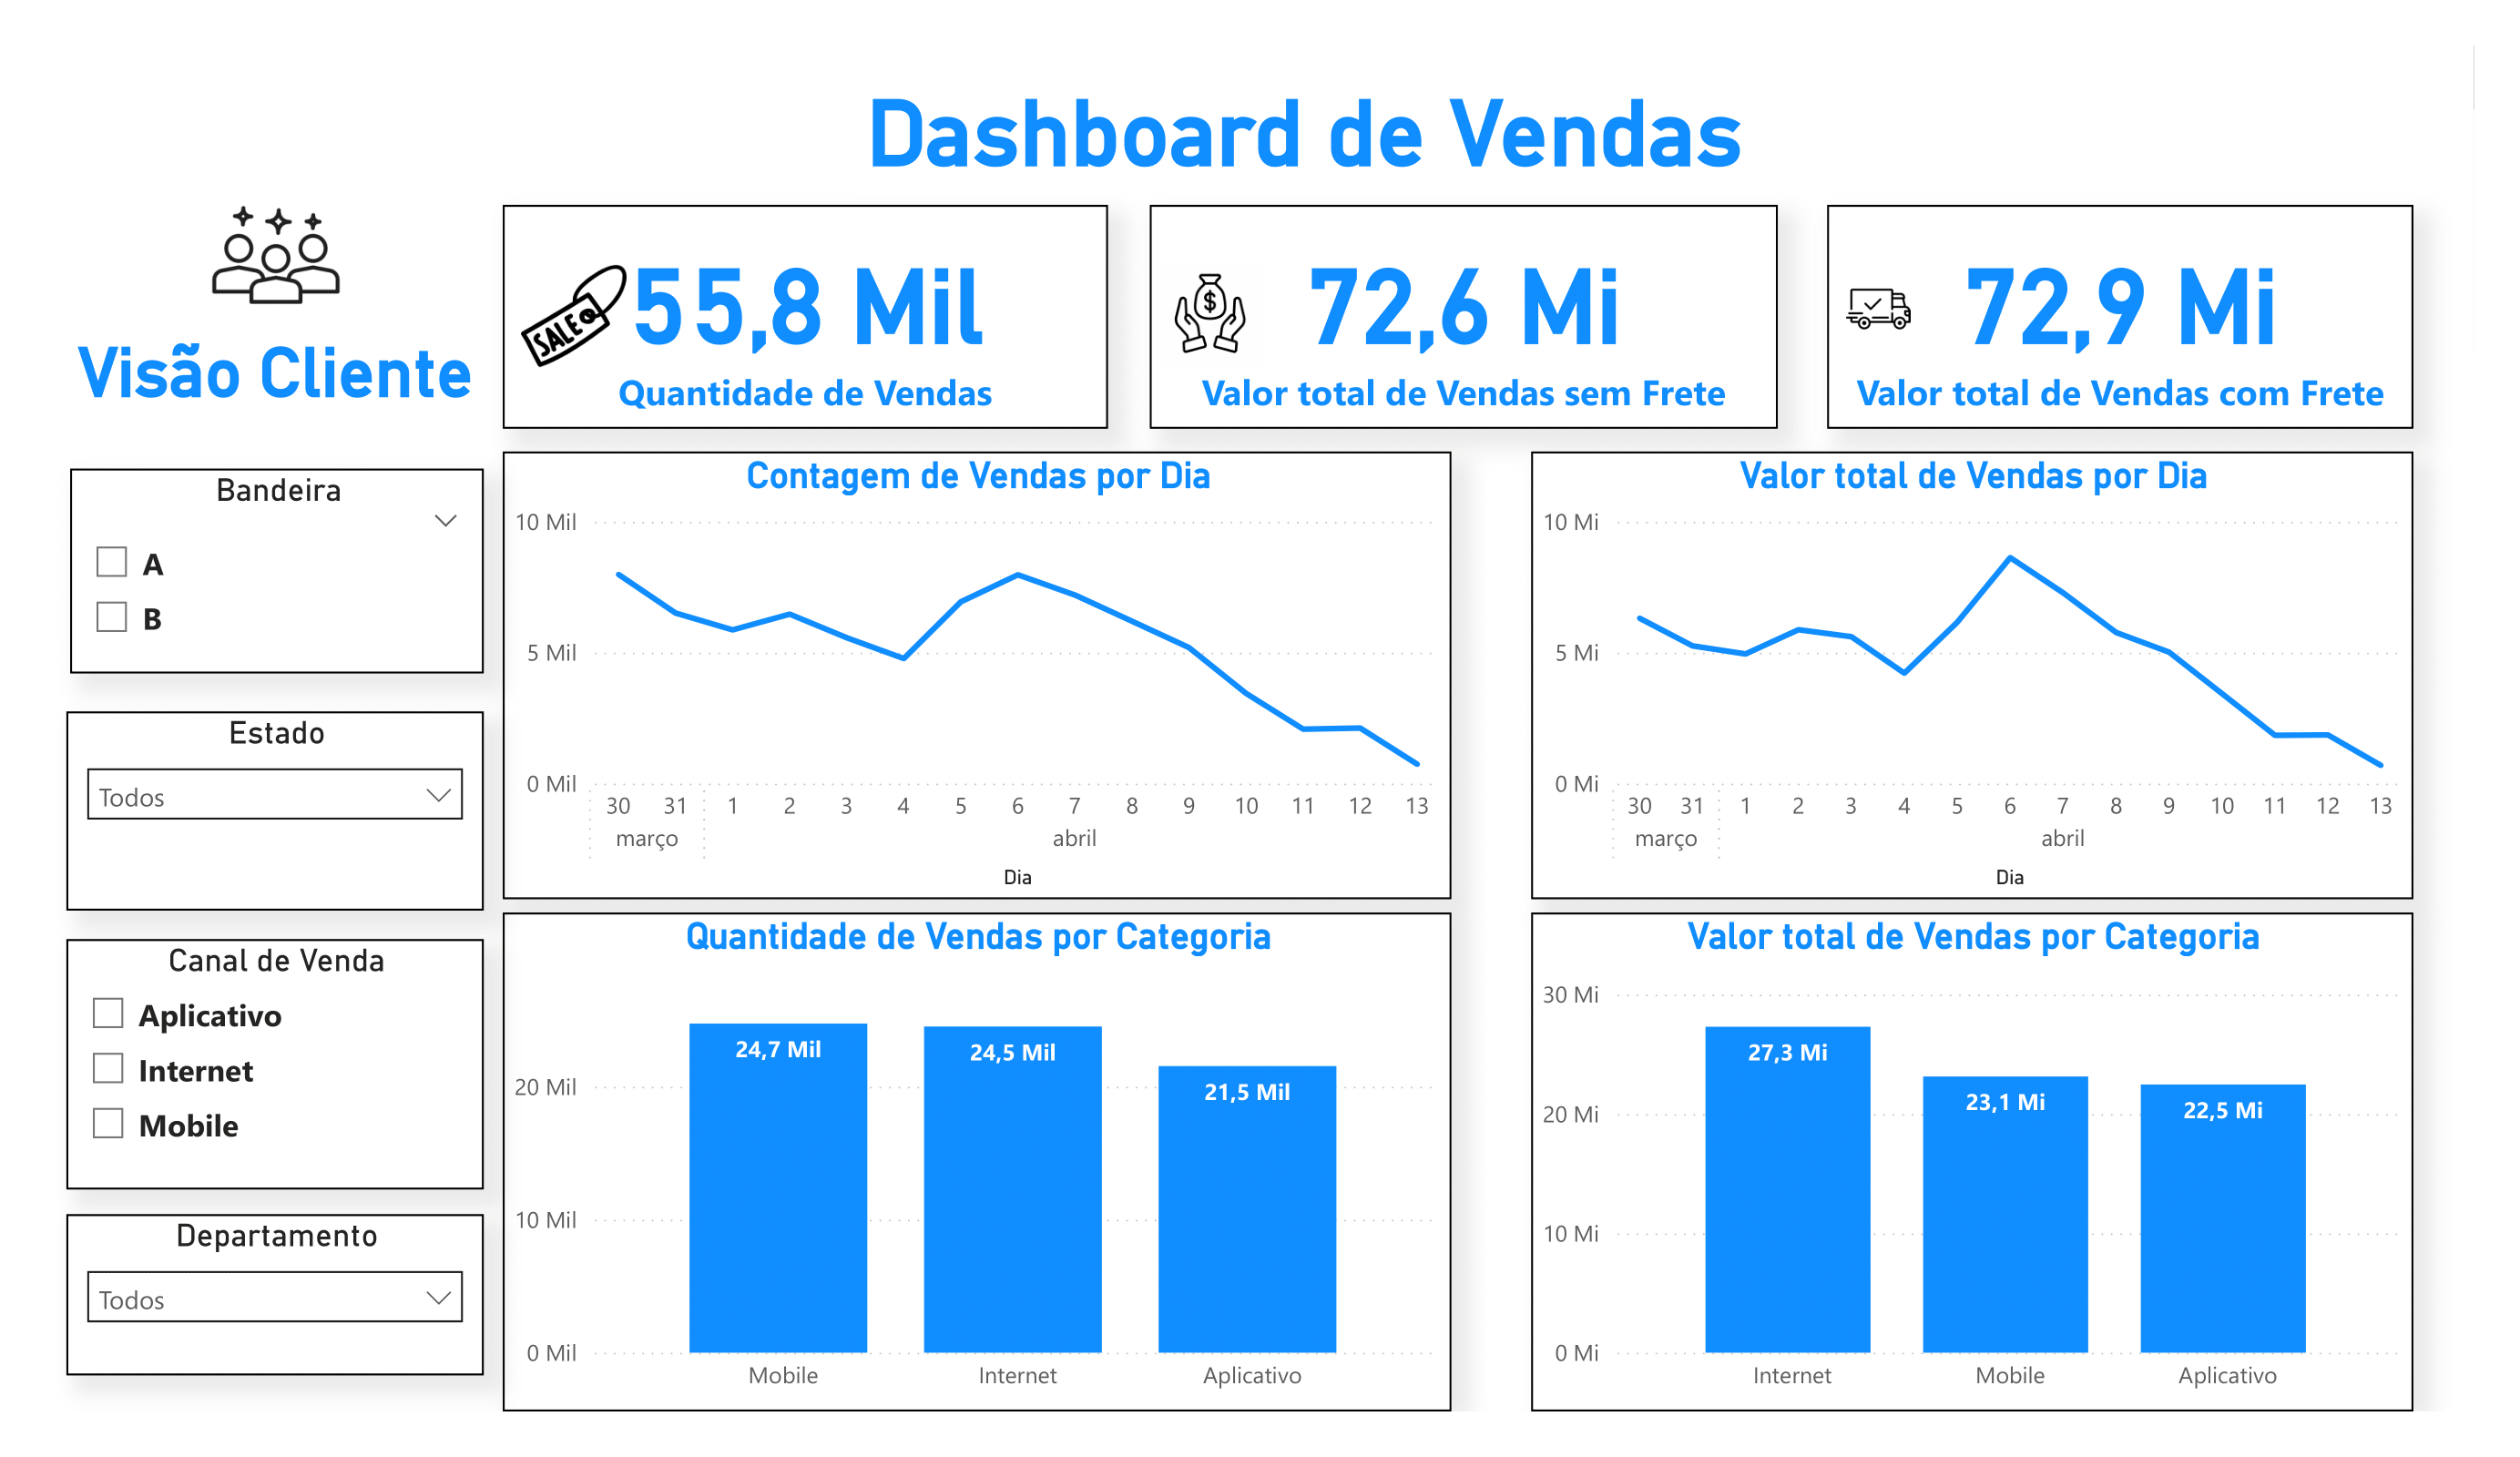

Layout of this report page (visuals, bound fields, positions):
{"tool":"powerbi","page":{"name":"Visão cliente","canvas":[1280,720],"ordinal":0},"visuals":[{"type":"card","fields":{"Values":["Count(base compra.idcompra)"]},"box":[241,84.1,319,117.5],"z":0},{"type":"card","fields":{"Values":["Sum(base compra.Preço)"]},"box":[582.2,83.9,330.5,117.7],"z":1000},{"type":"card","fields":{"Values":["Sum(base compra.Preço_com_frete)"]},"box":[938.7,84.1,308.9,117.5],"z":2000},{"type":"textbox","title":"Dashboard de Vendas","box":[428.4,18.2,484.1,59.7],"z":3000},{"type":"image","box":[938.3,116.6,55.3,44],"z":4000},{"type":"image","box":[241,110.4,73.9,64.8],"z":5000},{"type":"image","box":[582.2,109.5,65.5,65.5],"z":6000},{"type":"textbox","title":"Visão Cliente","box":[12.2,150.9,218.7,48.6],"z":7000},{"type":"image","box":[70.9,58.7,101.3,102.3],"z":8000},{"type":"lineChart","title":"Contagem de Vendas por Dia","fields":{"Y":["Count(base compra.idcompra)"],"Category":["base compra.Data.Variation.Hierarquia de datas.Mês","base compra.Data.Variation.Hierarquia de datas.Dia"]},"box":[241,213.7,500.3,235.9],"z":9000},{"type":"lineChart","title":"Valor total de Vendas por Dia","fields":{"Category":["base compra.Data.Variation.Hierarquia de datas.Mês","base compra.Data.Variation.Hierarquia de datas.Dia"],"Y":["Sum(base compra.Preço_com_frete)"]},"box":[782.8,213.7,464.8,235.9],"z":10000},{"type":"clusteredColumnChart","title":"Quantidade de Vendas por Categoria","fields":{"Category":["base compra.idcanalvenda"],"Y":["Count(base compra.idcompra)"]},"box":[241,456.7,500.3,263.3],"z":11000},{"type":"clusteredColumnChart","title":"Valor total de Vendas por Categoria","fields":{"Category":["base compra.idcanalvenda"],"Y":["Sum(base compra.Preço_com_frete)"]},"box":[782.8,456.7,464.8,263.3],"z":12000},{"type":"slicer","title":"Bandeira","fields":{"Values":["base compra.bandeira"]},"box":[12.5,222.5,218.8,108.8],"z":13000},{"type":"slicer","title":"Estado","fields":{"Values":["base compra.estado"]},"box":[11.2,351.2,220,105],"z":14000},{"type":"slicer","title":"Canal de Venda","fields":{"Values":["base compra.idcanalvenda"]},"box":[11.2,471.2,220,131.2],"z":15000},{"type":"slicer","title":"Departamento","fields":{"Values":["base compra.Nome_Departamento"]},"box":[11.2,616.2,220,85],"z":16000}]}

Visuals, with their boxes in screenshot pixels (x1, y1, x2, y2):
card - Count(base compra.idcompra): detection(503, 205, 1108, 428)
card - Sum(base compra.Preço): detection(1150, 205, 1778, 428)
card - Sum(base compra.Preço_com_frete): detection(1827, 205, 2413, 428)
"Dashboard de Vendas" textbox: detection(859, 80, 1777, 193)
image: detection(1826, 267, 1931, 351)
image: detection(503, 255, 643, 378)
image: detection(1150, 253, 1275, 378)
"Visão Cliente" textbox: detection(68, 331, 484, 424)
image: detection(180, 157, 372, 351)
"Contagem de Vendas por Dia" lineChart: detection(503, 451, 1453, 899)
"Valor total de Vendas por Dia" lineChart: detection(1531, 451, 2413, 899)
"Quantidade de Vendas por Categoria" clusteredColumnChart: detection(503, 912, 1453, 1411)
"Valor total de Vendas por Categoria" clusteredColumnChart: detection(1531, 912, 2413, 1411)
"Bandeira" slicer: detection(69, 468, 485, 674)
"Estado" slicer: detection(66, 712, 485, 911)
"Canal de Venda" slicer: detection(66, 940, 485, 1188)
"Departamento" slicer: detection(66, 1215, 485, 1376)
